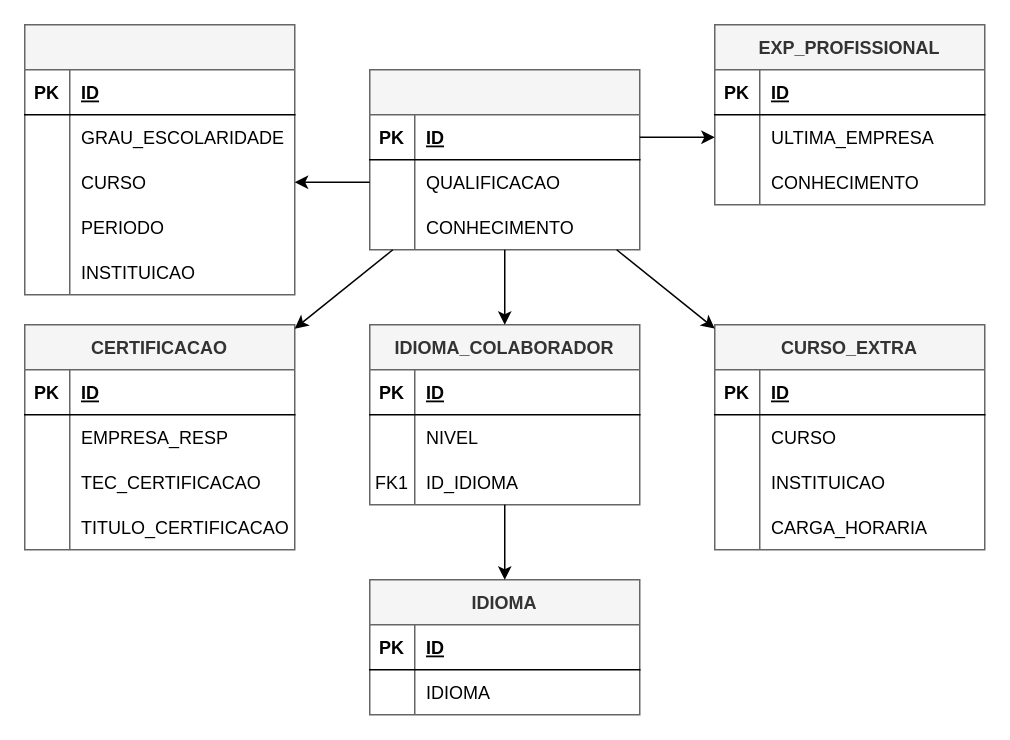
The diagram is 1010 pixels wide and 740 high, and some of its shapes have lost their labels. Here are the shapes that lost their labels. From the top down, the box of each, then its label:
(23, 23, 295, 295): FORM_ACADEMICA
(368, 68, 640, 250): COLABORADOR
